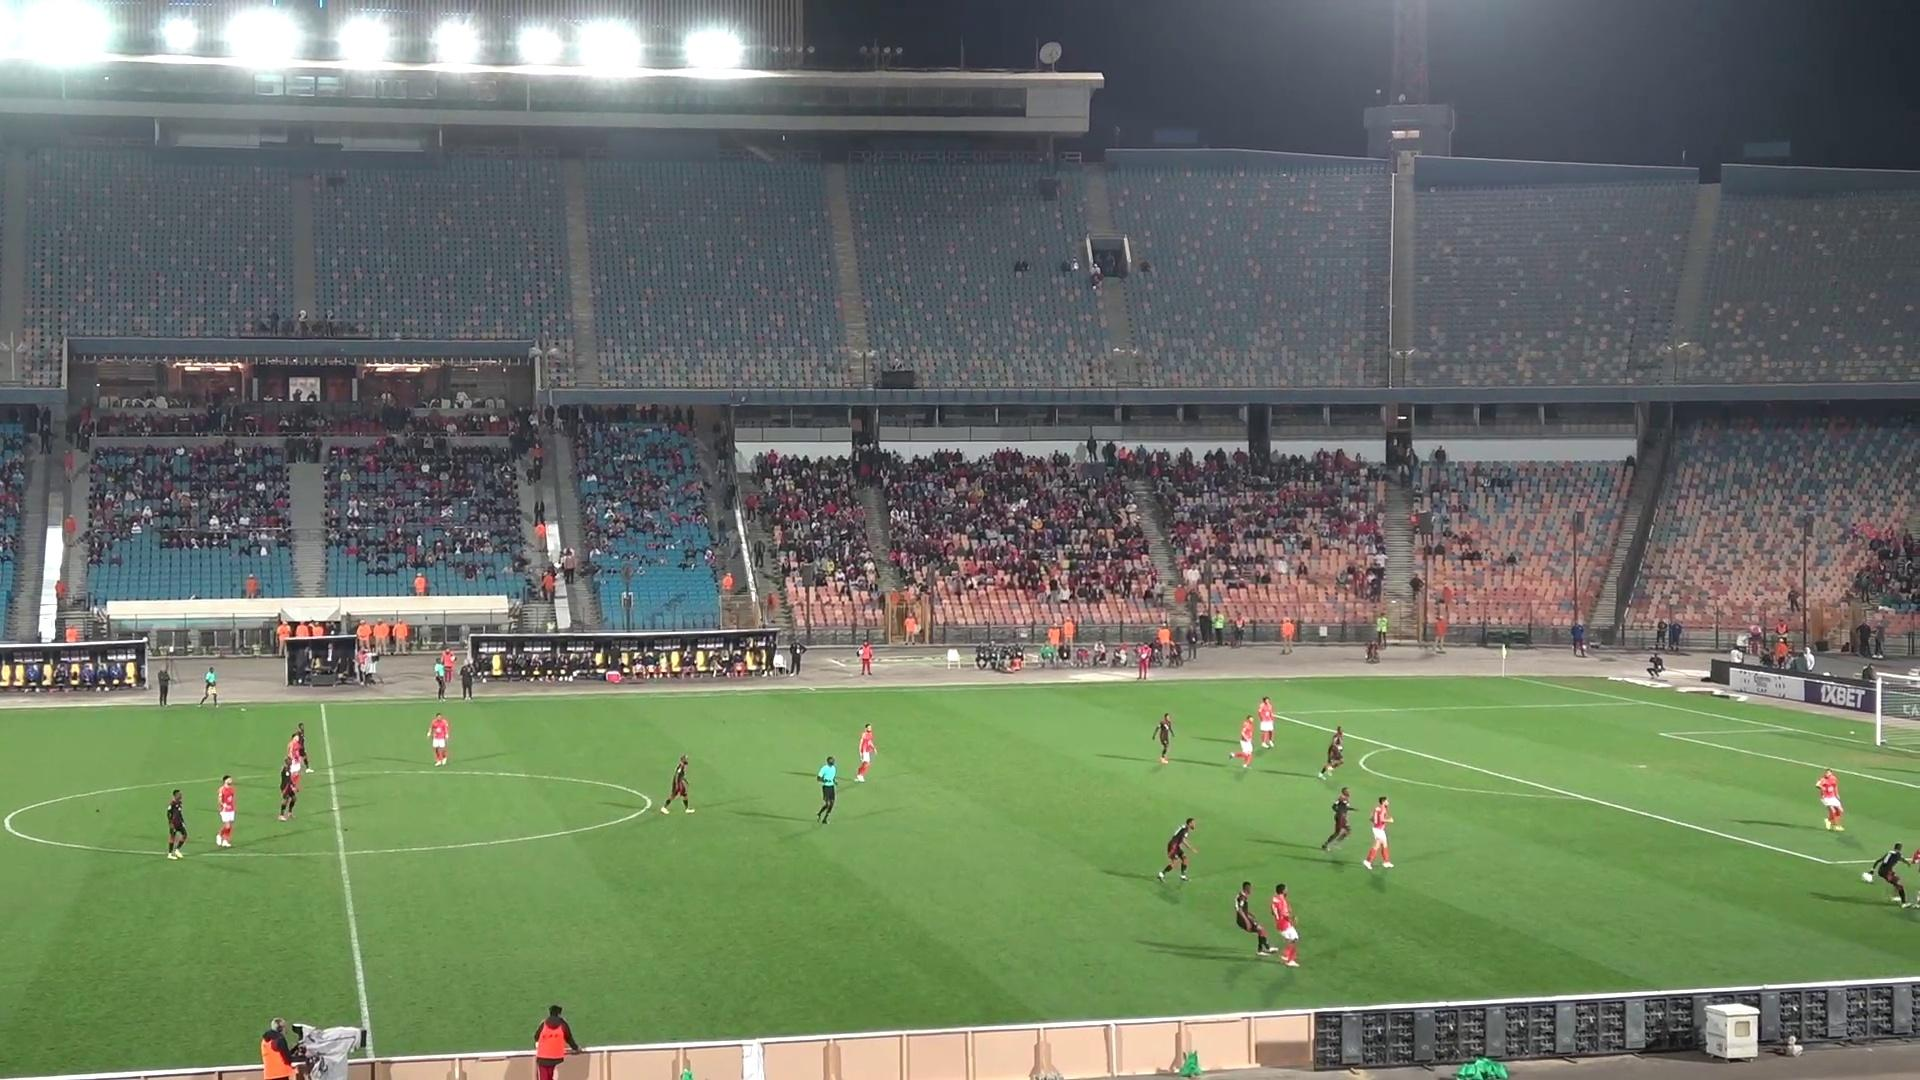Ball: (1862, 869, 1876, 884)
Refree: (816, 756, 837, 824), (289, 723, 313, 775), (434, 650, 454, 699), (196, 669, 222, 705)
Team1: (1270, 884, 1299, 967), (1362, 796, 1393, 869), (1815, 767, 1844, 831), (214, 775, 237, 848), (1244, 696, 1276, 748), (853, 723, 877, 782), (284, 731, 307, 779), (429, 713, 450, 766)
Team2: (1234, 881, 1276, 955), (1870, 844, 1912, 906), (1156, 818, 1196, 880), (1319, 786, 1354, 851), (659, 754, 695, 814), (280, 756, 307, 820), (166, 789, 189, 858), (1317, 727, 1345, 779), (1151, 713, 1174, 764)
